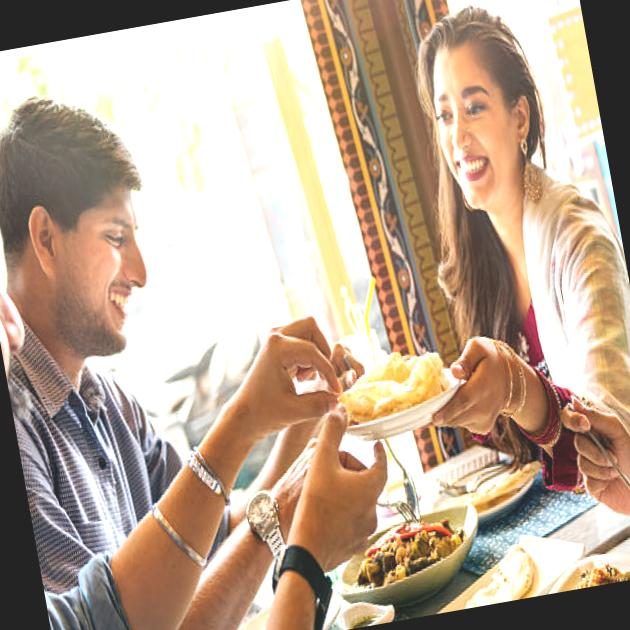there is a person: (374, 0, 608, 394), (0, 110, 205, 486)
wristwatc: (262, 544, 344, 630), (231, 474, 293, 552)
